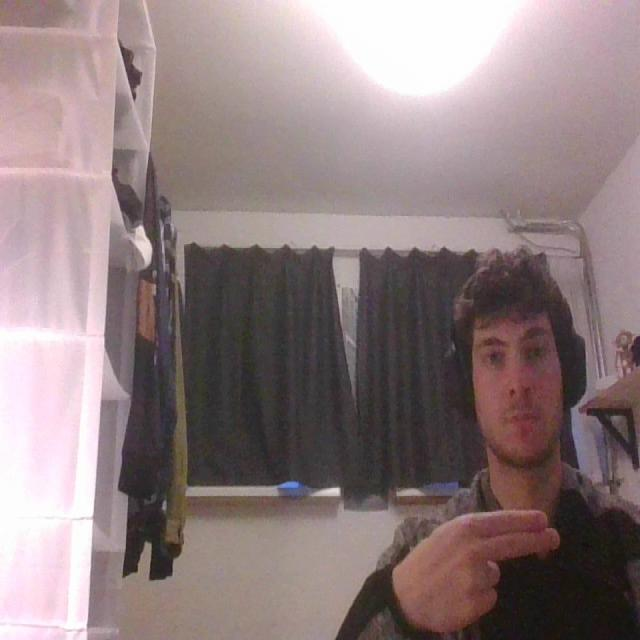right: (385, 505, 564, 639)
